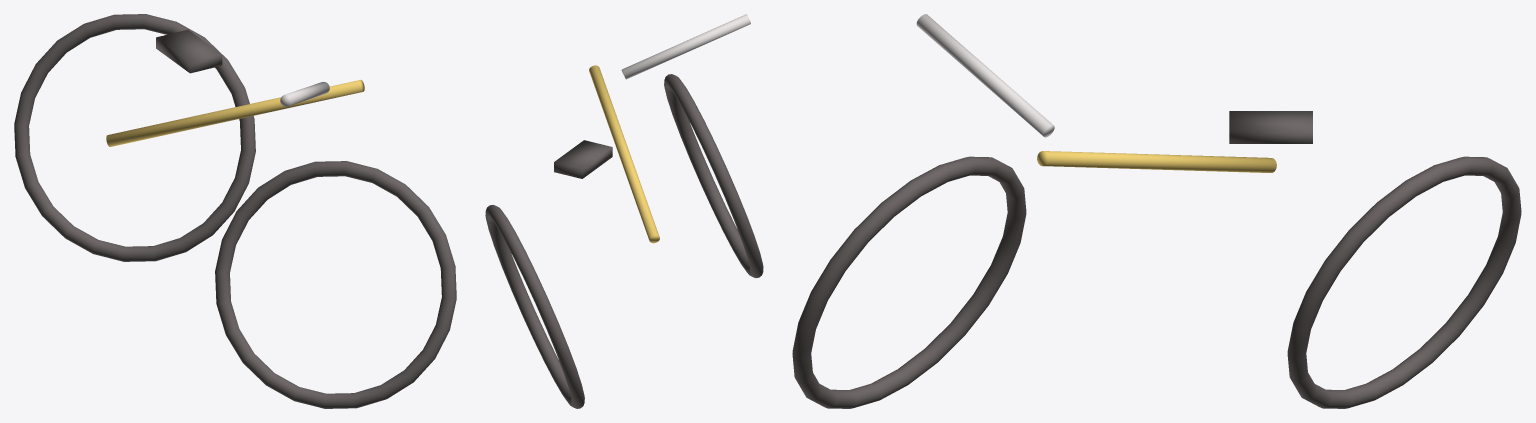
File: bicycle.glb
3 views of the same model, side by side, from view 1: azimuth 30°, elevation 25°; view 2: azimuth 150°, elevation 25°; view 3: azimuth 270°, elevation 25° (orthographic). The views are drawn at different scales.
Visible parts, largest first — view 1: wheel_0.65, wheel_-0.65, tube, saddle, bars; view 2: wheel_-0.65, wheel_0.65, tube, bars, saddle; view 3: wheel_-0.65, wheel_0.65, tube, saddle, bars.
Part boxes in pixels (x1,y1,x2,y2): wheel_0.65: (215, 161, 456, 408); wheel_-0.65: (14, 14, 255, 261); tube: (106, 80, 364, 146); saddle: (156, 29, 222, 73); bars: (280, 82, 329, 106); wheel_-0.65: (485, 205, 584, 408); wheel_0.65: (664, 74, 763, 277); tube: (589, 65, 659, 243); bars: (621, 14, 750, 79); saddle: (554, 140, 612, 178); wheel_-0.65: (1287, 156, 1521, 408); wheel_0.65: (792, 156, 1026, 408); tube: (1037, 151, 1276, 172); saddle: (1229, 111, 1312, 143); bars: (916, 14, 1054, 137).
Size of the model in its own units: 0.6298 by 1.08 by 1.91.
